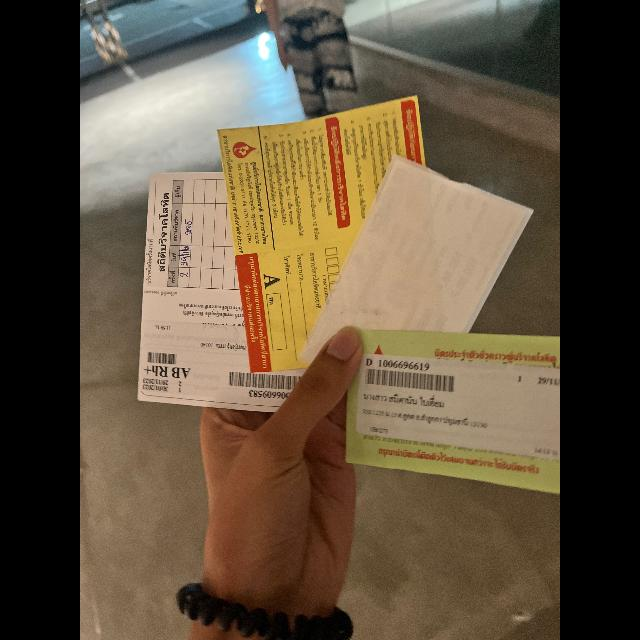scrap_paper: (206, 84, 464, 374), (304, 146, 536, 382), (128, 170, 328, 416), (328, 328, 560, 507)
